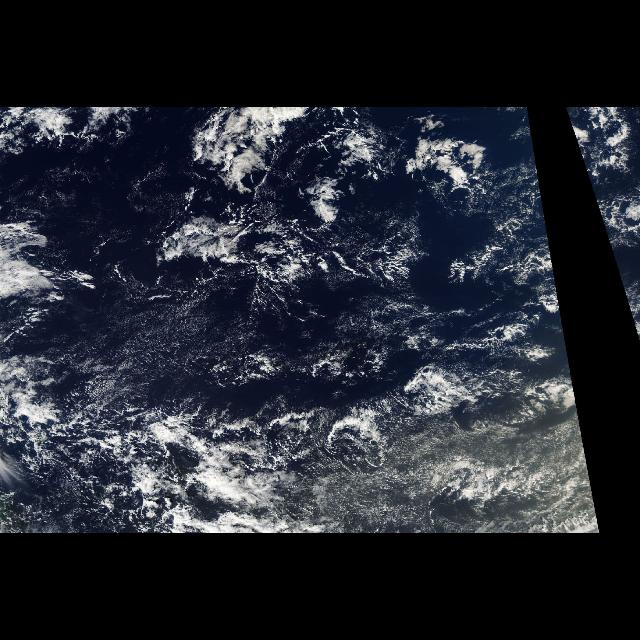Gravel: (145, 201, 600, 527)
Sugar: (68, 258, 600, 532)
